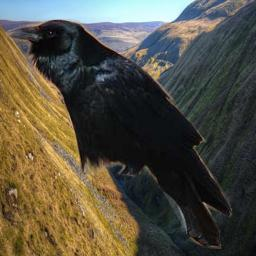Crow: (6, 19, 232, 249)
